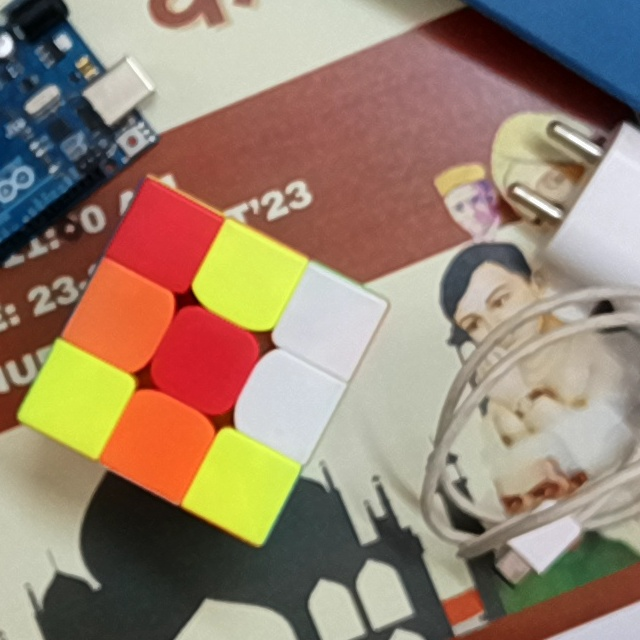tile: (172, 326, 236, 392), (126, 410, 191, 474), (297, 289, 359, 355), (255, 372, 317, 437), (216, 245, 277, 311), (90, 286, 151, 351), (47, 368, 109, 428), (212, 458, 274, 514), (138, 210, 194, 267)
